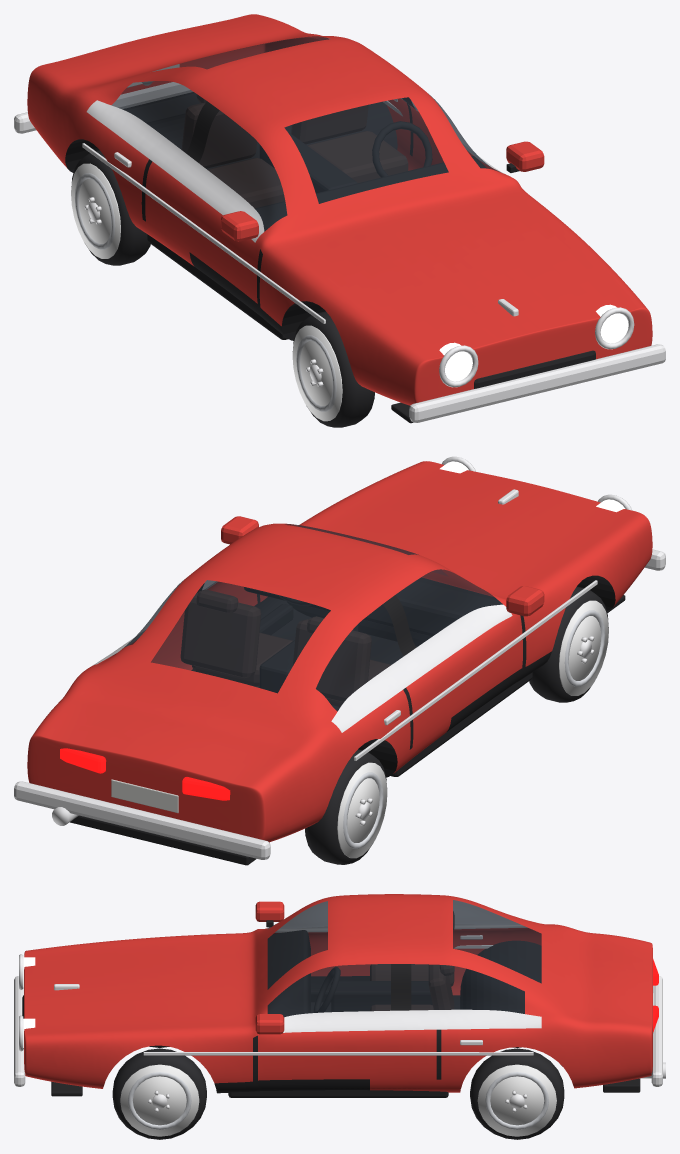
The model's file is vira.glb.
The picture shows the model from 3 angles, top to bottom: view 1: azimuth 30°, elevation 25°; view 2: azimuth 150°, elevation 25°; view 3: azimuth 270°, elevation 25°; orthographic projection. The views are drawn at different scales.
Parts seen in each view (by area): view 1: body, wheel_fr, wheel_rr; view 2: body, wheel_rr, wheel_fr; view 3: body, wheel_fl, wheel_rl.
Boxes of the visible parts, x1,y1,x2,y2 form: body: (14,14,665,423); wheel_fr: (292,311,374,427); wheel_rr: (71,150,150,265); body: (14,456,665,865); wheel_rr: (305,749,387,864); wheel_fr: (529,586,608,702); body: (14,894,665,1097); wheel_fl: (112,1048,206,1139); wheel_rl: (470,1048,564,1139).
Size of the model in its own units: 2.02 by 1.32 by 4.56.
